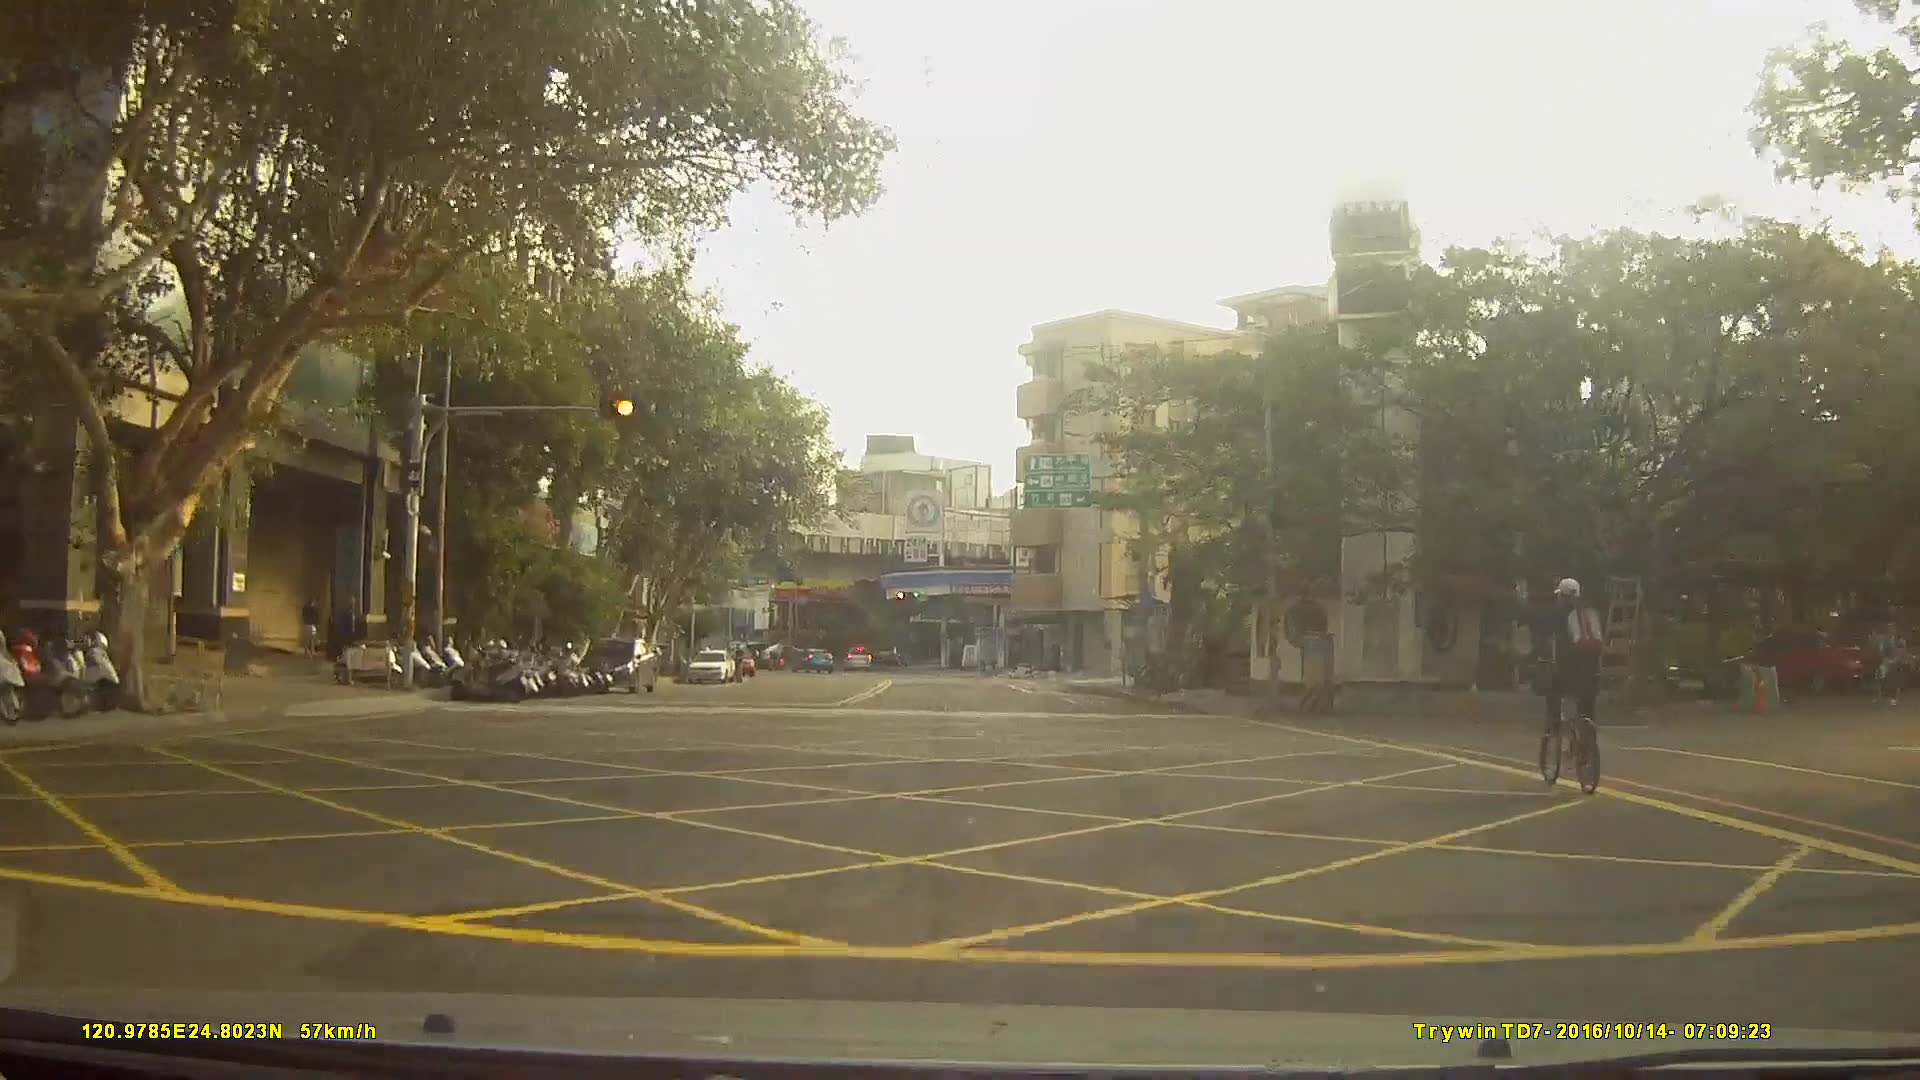pedestrian: (299, 598, 320, 662)
rider: (1522, 577, 1606, 798)
vehicle: (1719, 624, 1862, 695), (581, 635, 657, 692), (686, 647, 735, 684), (793, 643, 833, 670), (843, 643, 873, 671)
